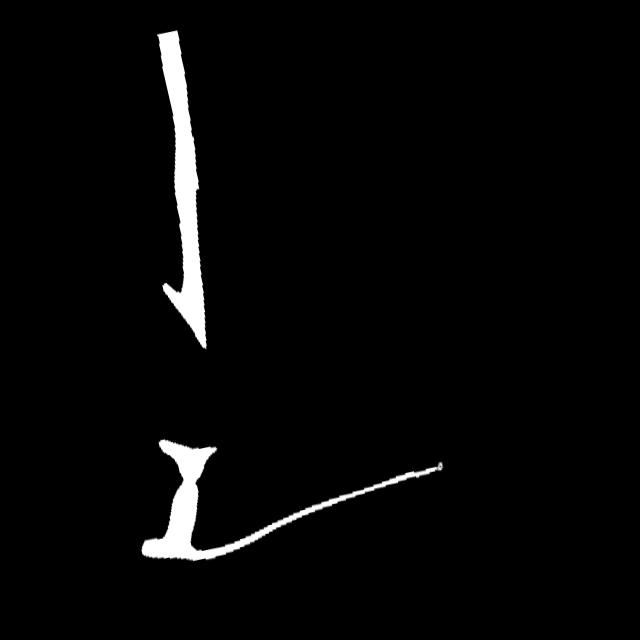stp: (430, 454, 450, 474)
